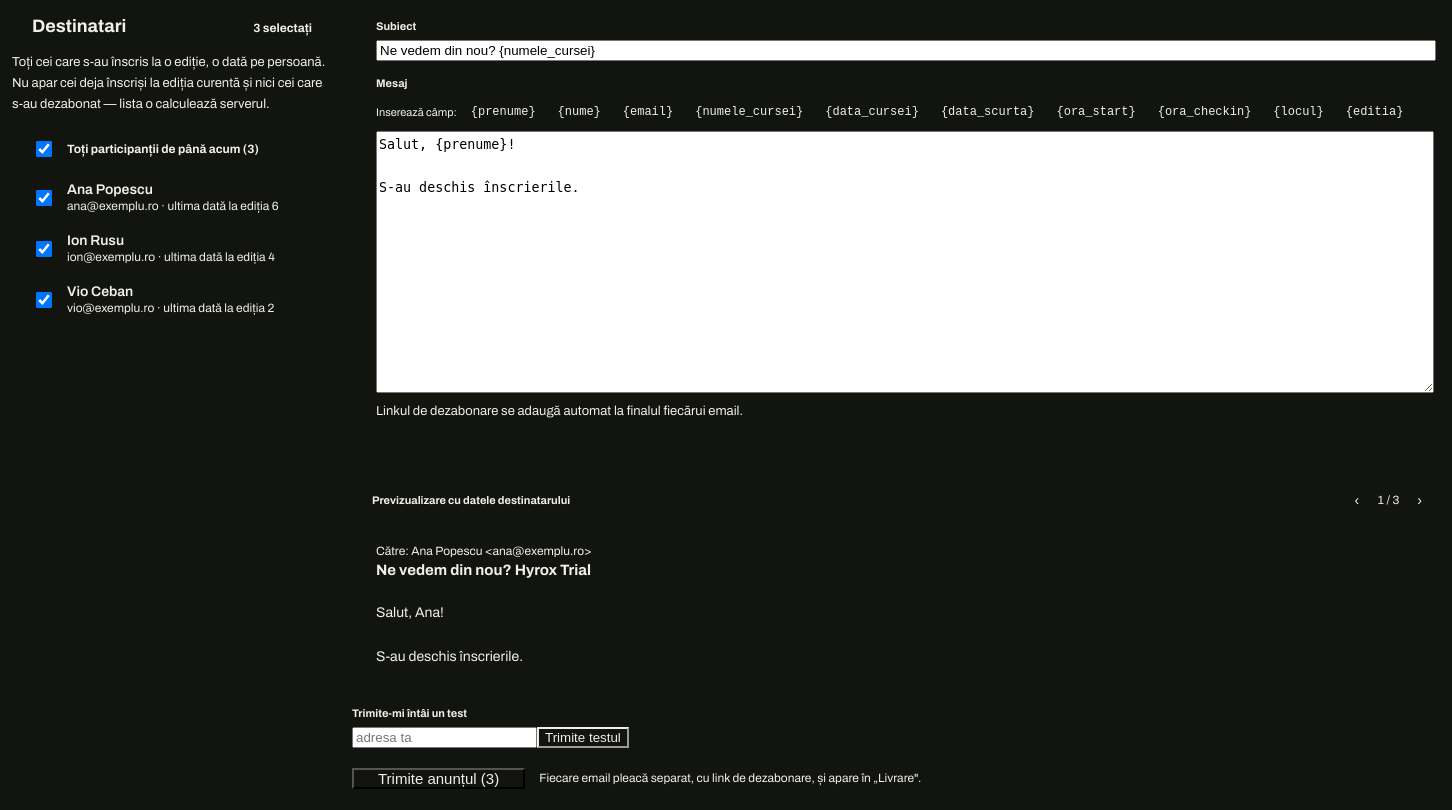
Test: AnuntIstoric — debifarea doar scoate › bifa de sus scoate pe toți — și butonul devine inactiv
The image size is (1452, 810).
expect the text "Ana Popescu" is shown: met, box [67,182,153,197]
expect the field showing "Ne vedem din nou? {numele_cursei}" is shown: met, box [376,40,1436,61]
Click the checkbox labelled "Toți participanții de până acum (3)" at (44, 149), box [36,141,52,157]
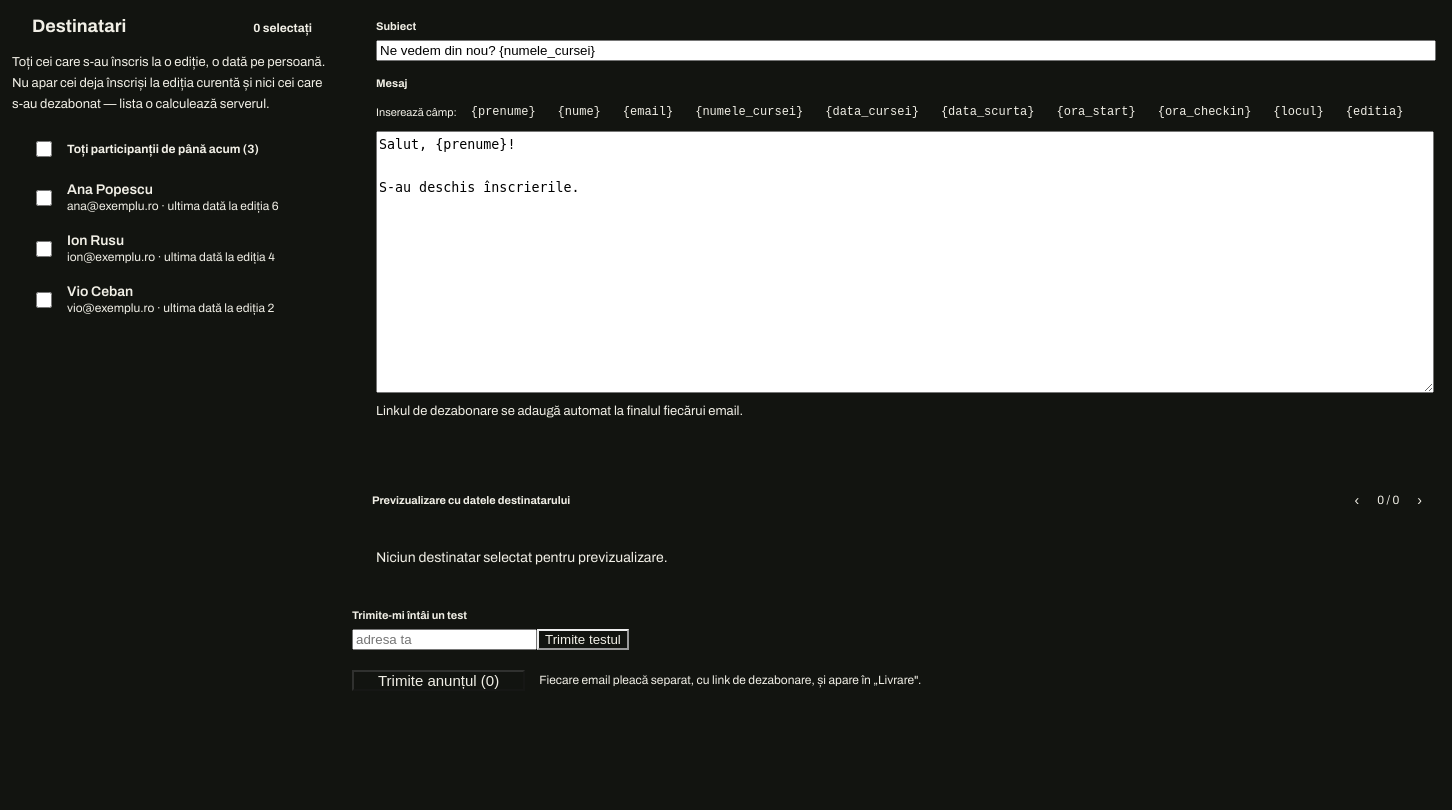
expect the button "Trimite anunțul (0)" is disabled: met, box [352,670,525,690]
